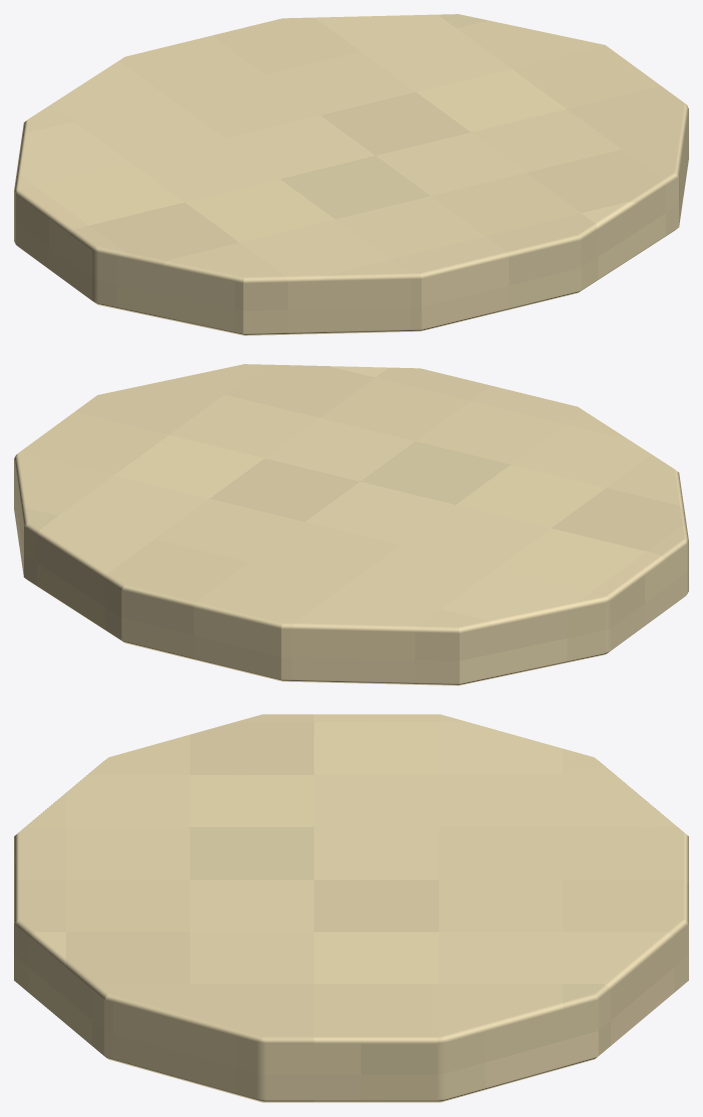
Rendered from Enamel-stripe.glb.
3 views of the same model, one above another, from view 1: azimuth 30°, elevation 25°; view 2: azimuth 150°, elevation 25°; view 3: azimuth 270°, elevation 25° (orthographic). The views are drawn at different scales.
Visible parts, largest first — view 1: Enamel-stripe; view 2: Enamel-stripe; view 3: Enamel-stripe.
Part boxes in pixels (bbox=[...]): Enamel-stripe: bbox=[14, 14, 688, 335]; Enamel-stripe: bbox=[14, 364, 688, 685]; Enamel-stripe: bbox=[14, 714, 688, 1102].
Bounding box in the file's own units: 0.2434 × 0.023 × 0.2125.
Materials: 1 (1 with a texture image).
